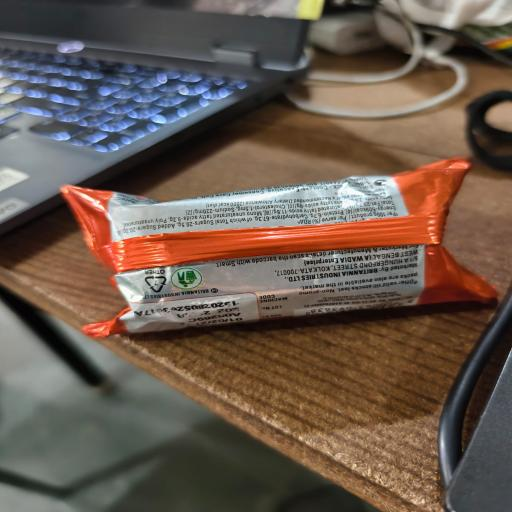goodday: (62, 159, 496, 337)
